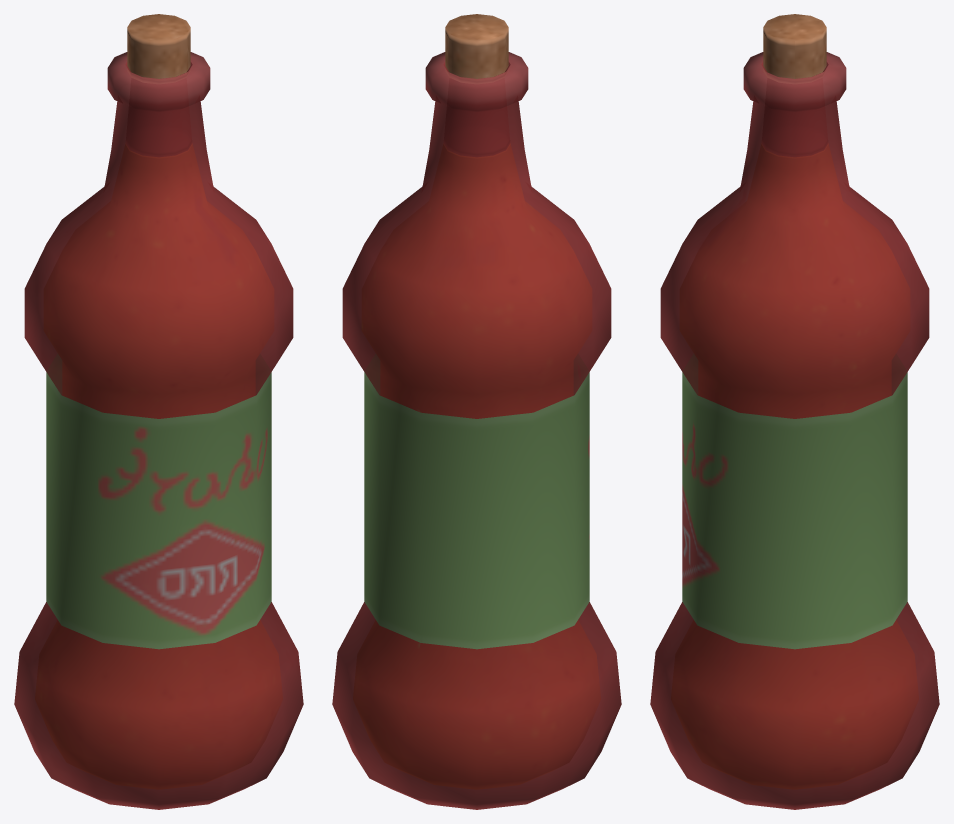
The model's file is pi_chilisauce02.gltf.
The picture shows the model from 3 angles, left to right: view 1: azimuth 30°, elevation 25°; view 2: azimuth 150°, elevation 25°; view 3: azimuth 270°, elevation 25°; orthographic projection.
Parts seen in each view (by area): view 1: pi_chilisauce02_outside01_mesh_shape:pi_chilisauce02_glass, pi_chilisauce02_sauce01_mesh_shape:pi_chilisauce02_sauce, pi_chilisauce02_outside01_mesh_shape:pi_chilisauce02_lid, pi_chilisauce02_inside01_mesh_shape:pi_chilisauce02_glass, pi_chilisauce02_lid01_mesh_shape:pi_chilisauce02_lid; view 2: pi_chilisauce02_outside01_mesh_shape:pi_chilisauce02_glass, pi_chilisauce02_sauce01_mesh_shape:pi_chilisauce02_sauce, pi_chilisauce02_outside01_mesh_shape:pi_chilisauce02_lid, pi_chilisauce02_inside01_mesh_shape:pi_chilisauce02_glass, pi_chilisauce02_lid01_mesh_shape:pi_chilisauce02_lid; view 3: pi_chilisauce02_outside01_mesh_shape:pi_chilisauce02_glass, pi_chilisauce02_sauce01_mesh_shape:pi_chilisauce02_sauce, pi_chilisauce02_outside01_mesh_shape:pi_chilisauce02_lid, pi_chilisauce02_inside01_mesh_shape:pi_chilisauce02_glass, pi_chilisauce02_lid01_mesh_shape:pi_chilisauce02_lid.
Boxes of the visible parts, <box> form: pi_chilisauce02_outside01_mesh_shape:pi_chilisauce02_glass: <box>14,52,303,809</box>; pi_chilisauce02_sauce01_mesh_shape:pi_chilisauce02_sauce: <box>35,145,282,788</box>; pi_chilisauce02_outside01_mesh_shape:pi_chilisauce02_lid: <box>46,354,271,649</box>; pi_chilisauce02_inside01_mesh_shape:pi_chilisauce02_glass: <box>125,62,192,156</box>; pi_chilisauce02_lid01_mesh_shape:pi_chilisauce02_lid: <box>127,14,190,83</box>; pi_chilisauce02_outside01_mesh_shape:pi_chilisauce02_glass: <box>332,52,621,809</box>; pi_chilisauce02_sauce01_mesh_shape:pi_chilisauce02_sauce: <box>353,145,600,788</box>; pi_chilisauce02_outside01_mesh_shape:pi_chilisauce02_lid: <box>364,354,589,649</box>; pi_chilisauce02_inside01_mesh_shape:pi_chilisauce02_glass: <box>443,62,510,156</box>; pi_chilisauce02_lid01_mesh_shape:pi_chilisauce02_lid: <box>445,14,508,83</box>; pi_chilisauce02_outside01_mesh_shape:pi_chilisauce02_glass: <box>650,52,939,809</box>; pi_chilisauce02_sauce01_mesh_shape:pi_chilisauce02_sauce: <box>671,145,918,788</box>; pi_chilisauce02_outside01_mesh_shape:pi_chilisauce02_lid: <box>682,354,907,649</box>; pi_chilisauce02_inside01_mesh_shape:pi_chilisauce02_glass: <box>761,62,828,156</box>; pi_chilisauce02_lid01_mesh_shape:pi_chilisauce02_lid: <box>763,14,826,83</box>.
Bounding box in the file's own units: 0.0586 × 0.1655 × 0.0586.
3 materials, 3 textured.
